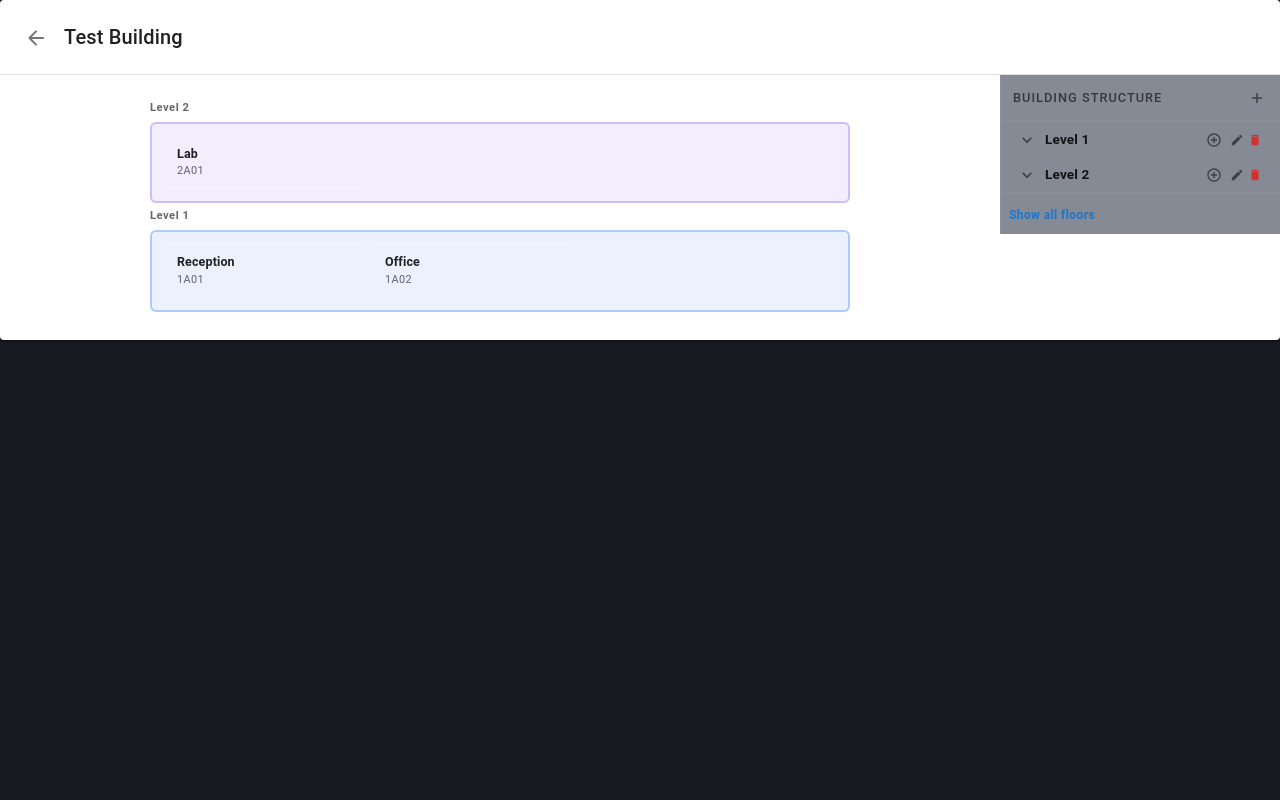
it: BuildingStructureView › Shall_open_add_device_dialog_when_clicking_add_on_room
The image size is (1280, 800).
Expand Level 1 in side panel
Click the button "Level 1" at (1067,139), box [1017,130,1264,150]
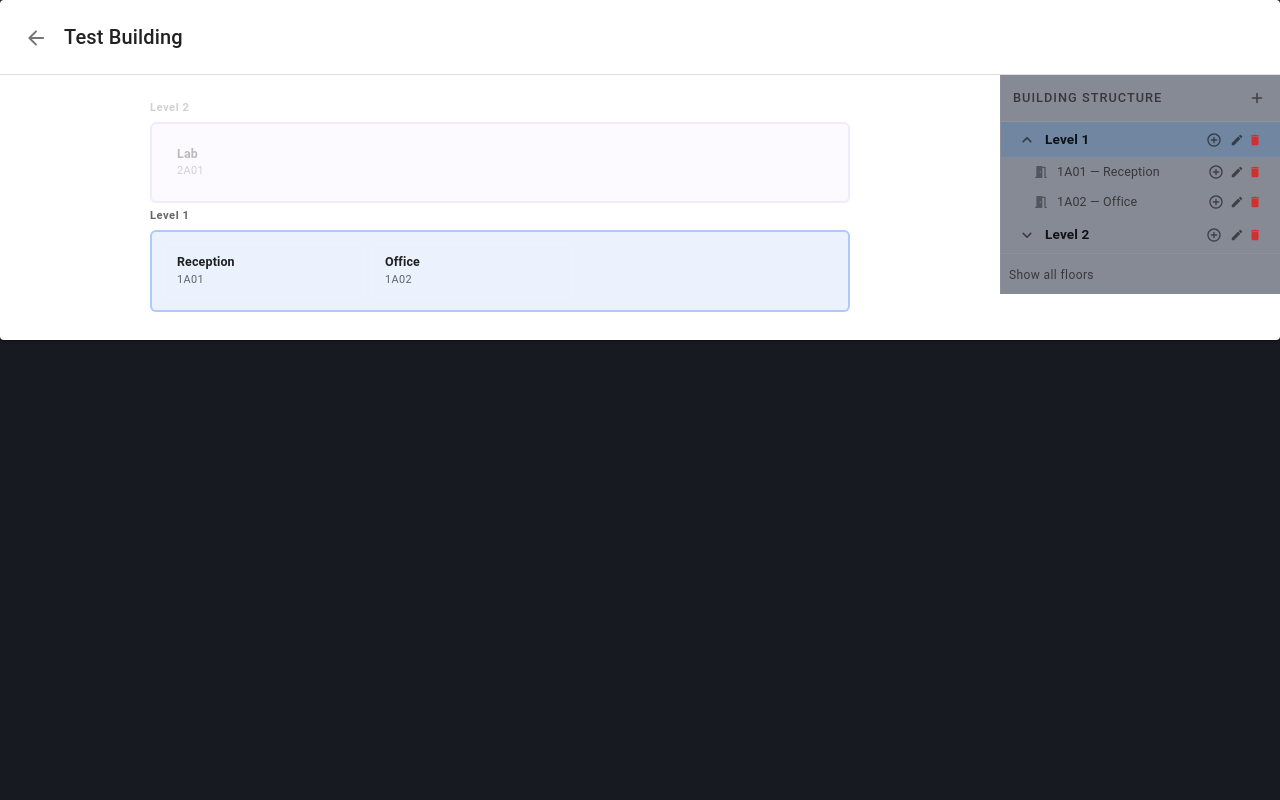
Expected: the text "1A01 — Reception" is shown, [1057,164,1160,179]
First icon button is add-device
Click the 1st button named "Add sensor to room" at (1216,172), box [1206,162,1226,182]
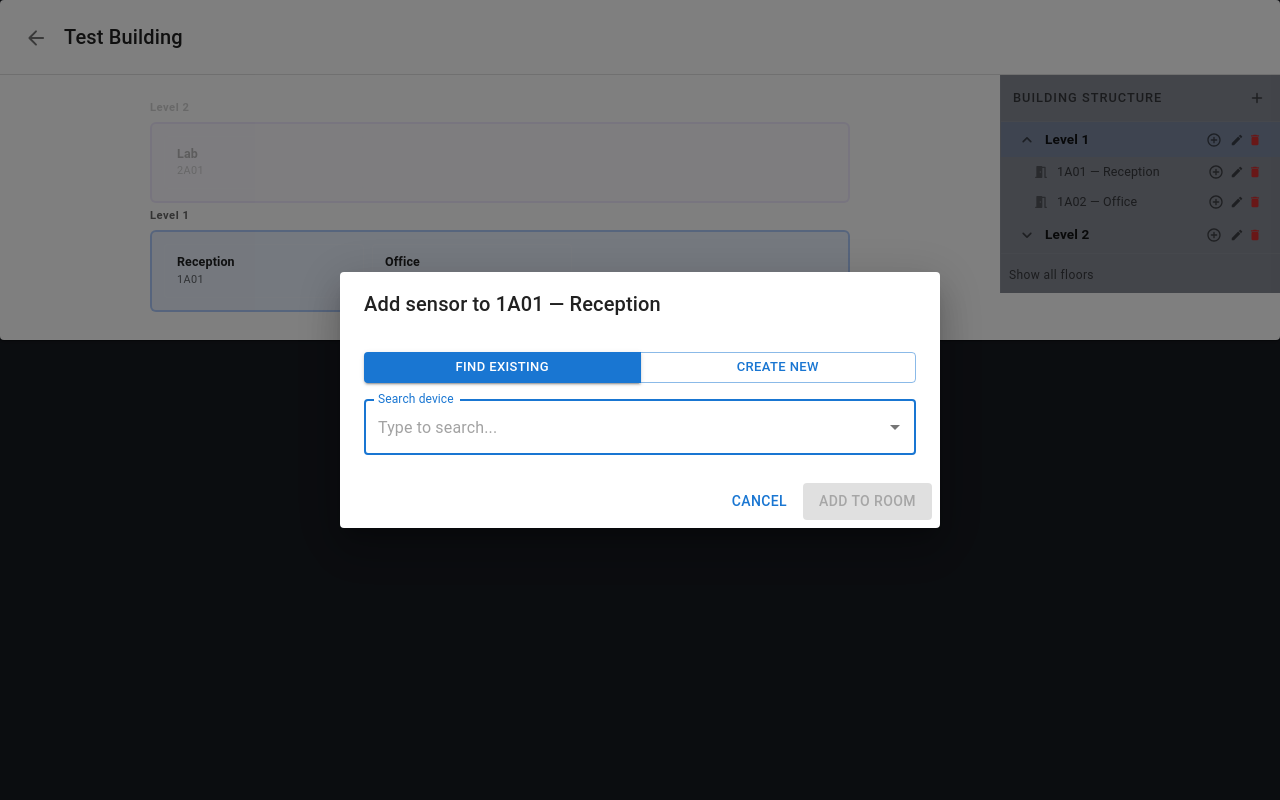
Expected: the heading "Add sensor to 1A01 — Reception" is shown, [364,292,661,316]
Expected: the button "Find existing" is shown, [364,352,640,383]
Expected: the button "Create new" is shown, [640,352,916,383]
